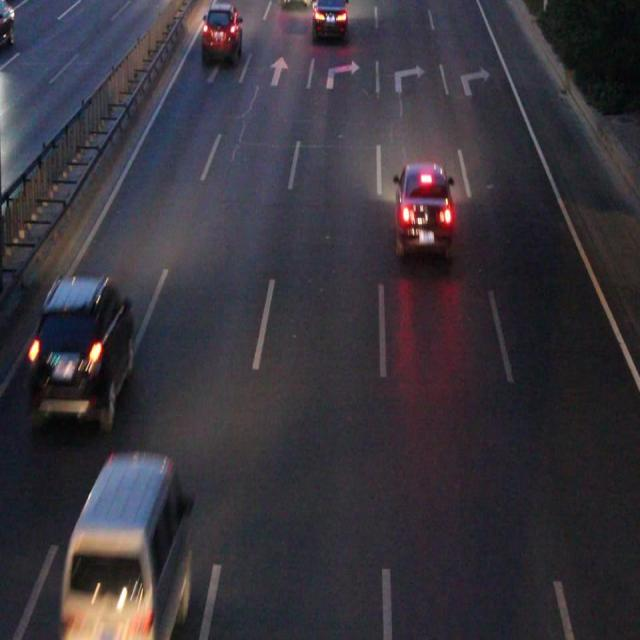car: (31, 277, 132, 422), (393, 165, 450, 253), (202, 8, 241, 61), (312, 1, 346, 36)
truck: (61, 452, 189, 631)
